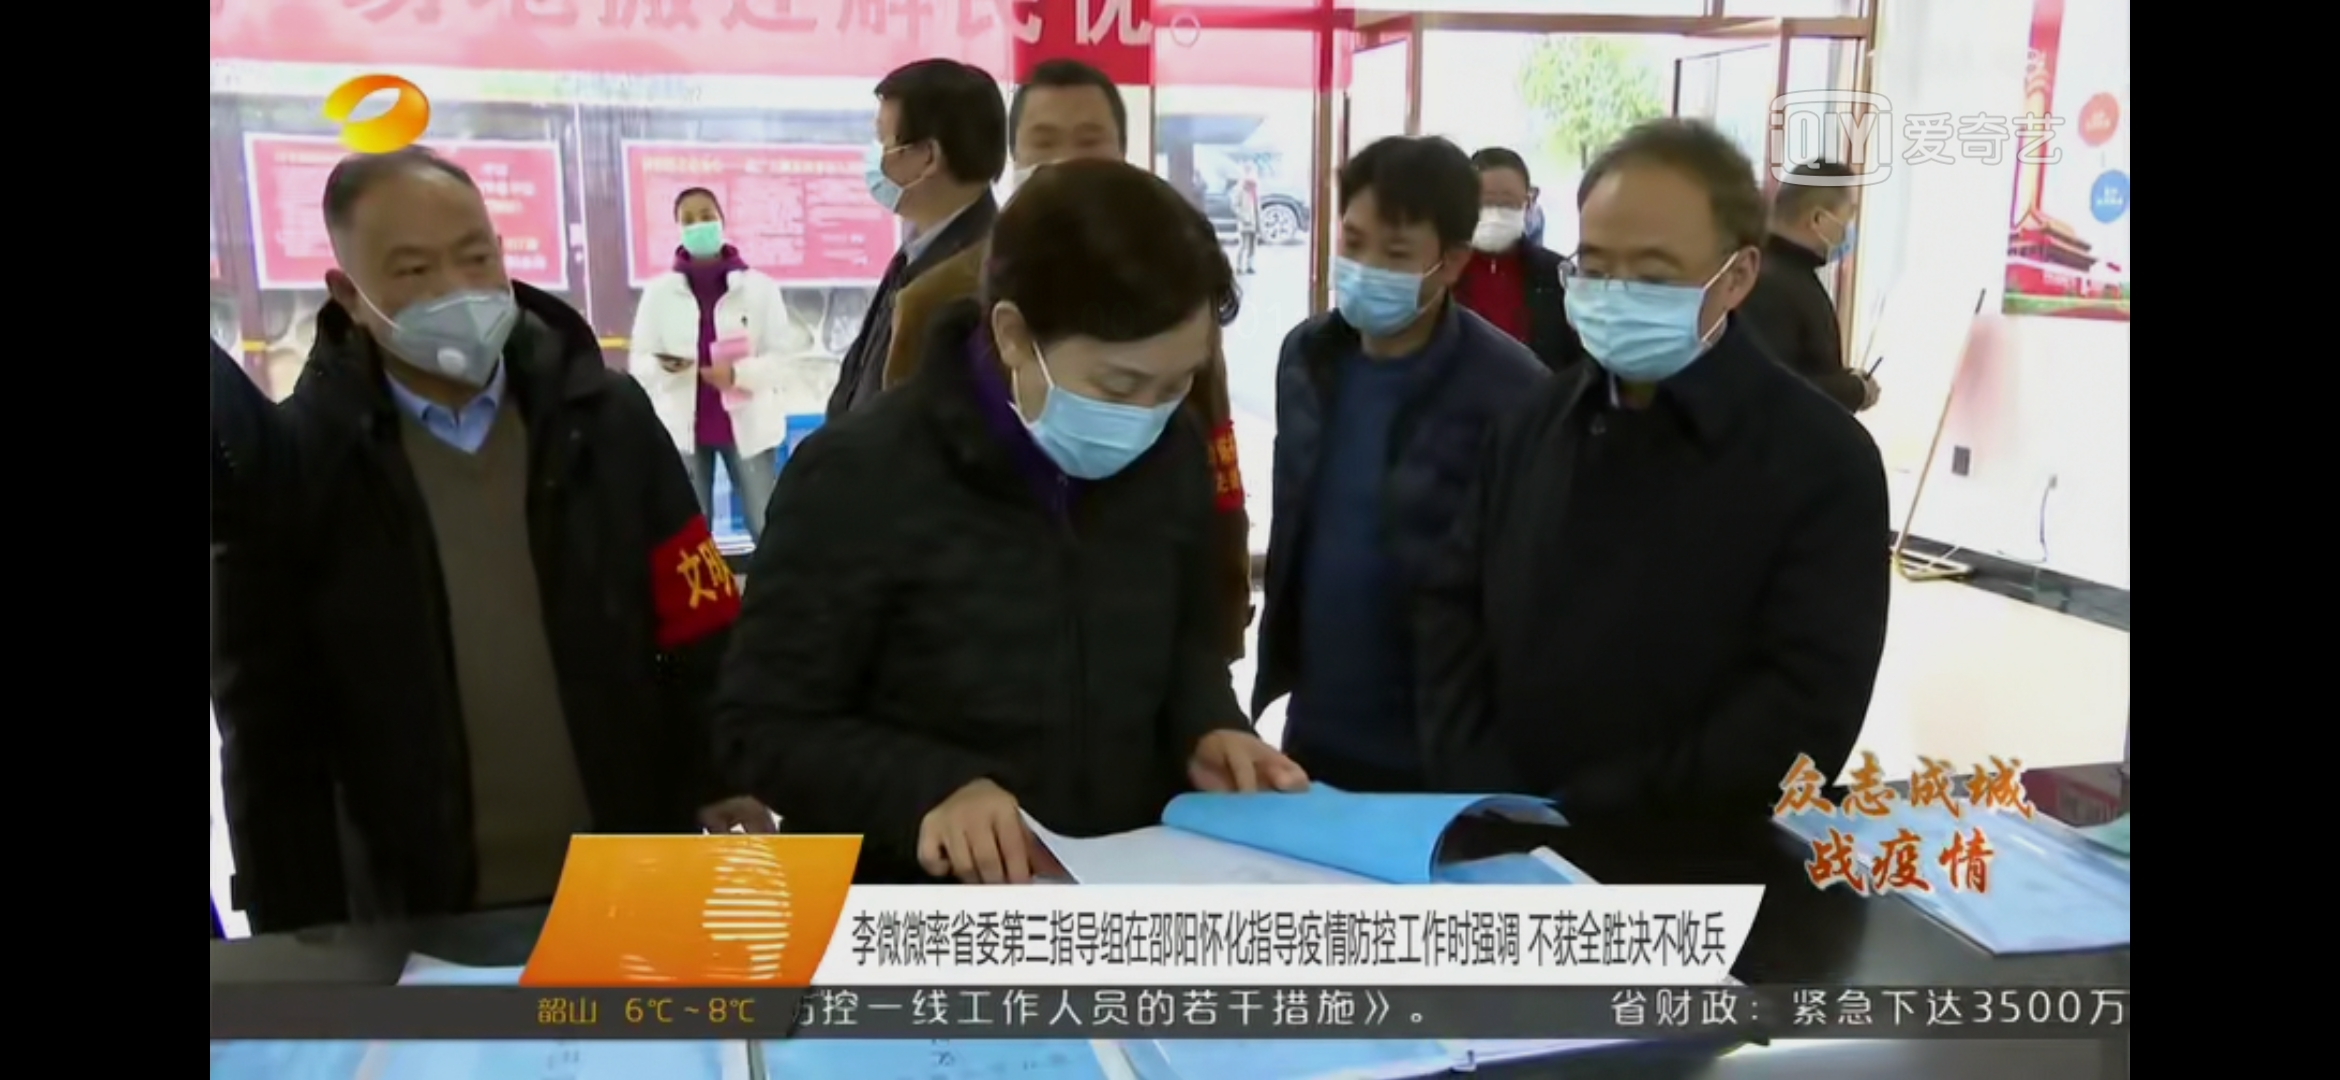correctlyWear: (988, 263, 1207, 483), (1555, 207, 1762, 382), (318, 224, 521, 392), (1327, 209, 1465, 336), (855, 110, 949, 216), (1798, 183, 1868, 273), (1467, 173, 1542, 251), (670, 203, 736, 260)
